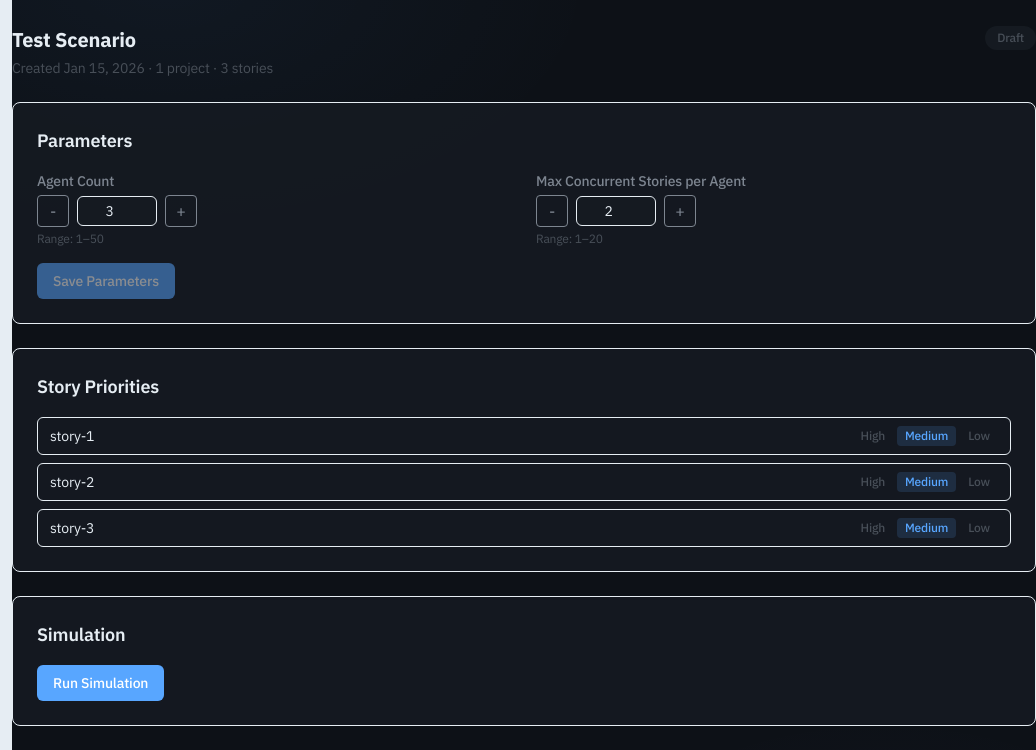
ScenarioDetail › shows confidence level label
Step 1. Click the button "Run Simulation" → [101, 683], box [37,665,164,701]
(page scrolled)
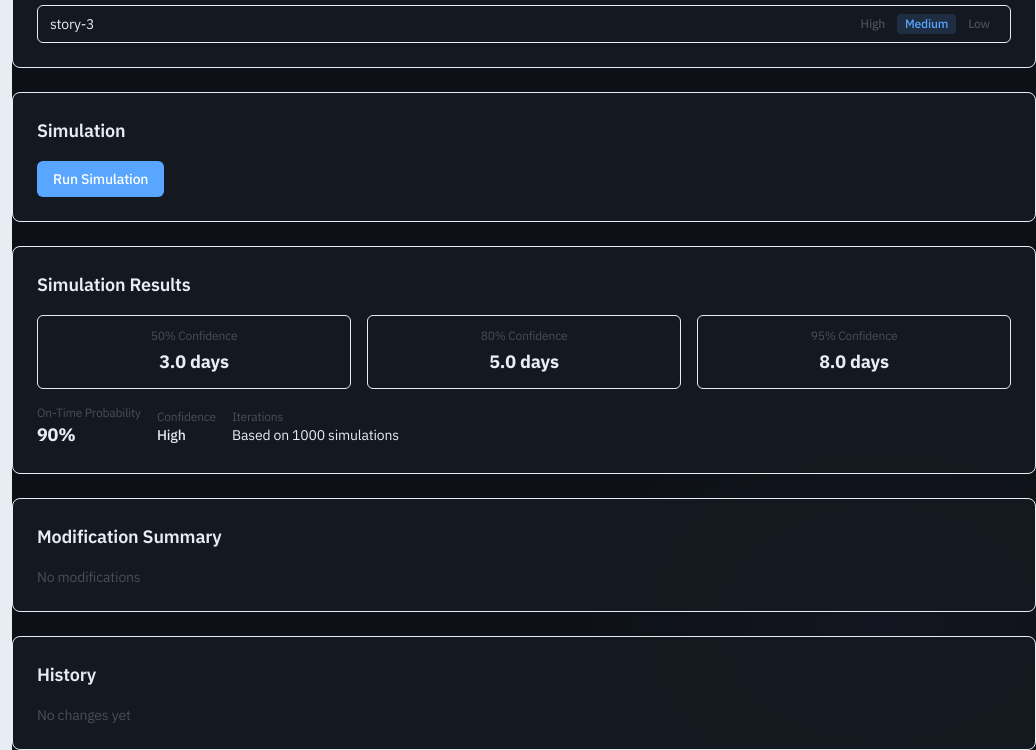
Expected: the text "High" is shown, [157,426,186,444]
Expected: the text "Based on 1000 simulations" is shown, [232,425,399,445]
